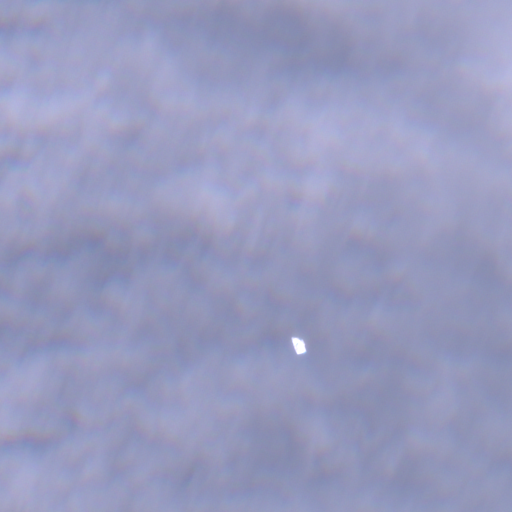Iceberg: (291, 337, 306, 354)
